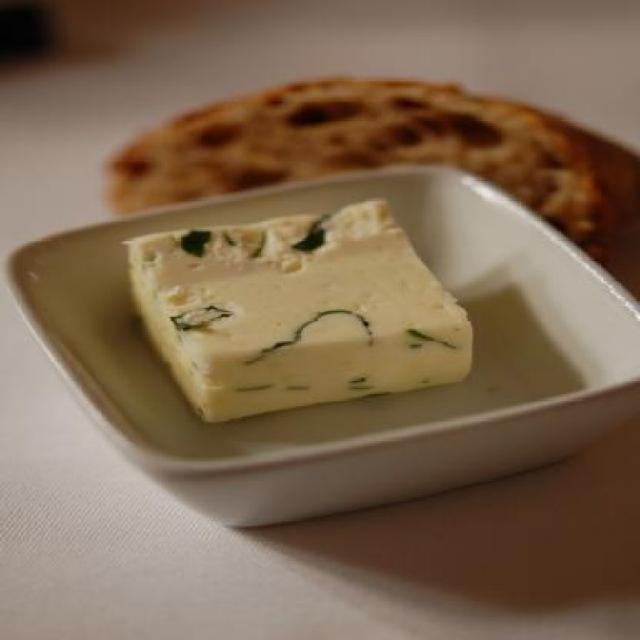Cheese: (114, 196, 480, 427)
